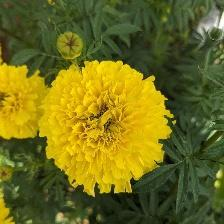marigold: (40, 60, 173, 195)
